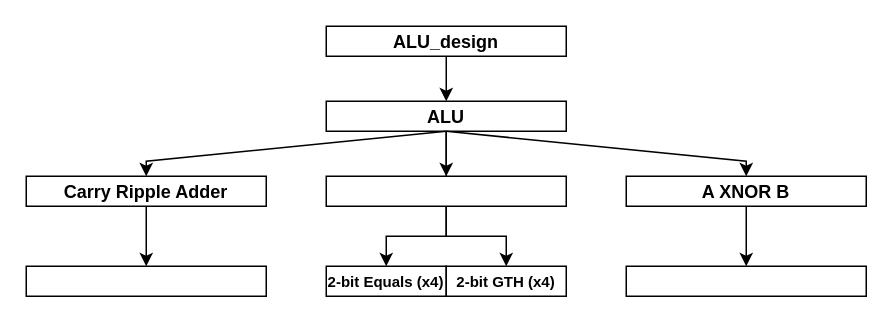
The diagram is 893 pixels wide and 323 high, and some of its shapes have lost their labels. Each missing label, with the centre of its shape:
"1-bit Full Adder (x6)" goes at [145,280].
"1-bit XNOR (x8)" goes at [745,280].
"A < B" goes at [445,190].
